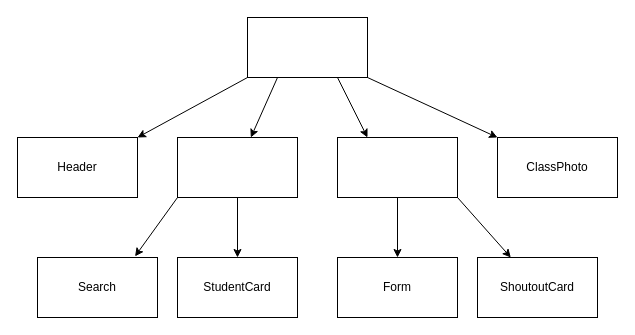
Some shapes in this 635 by 335 pixel diagram are drawn without their labels. The shapes that lost their labels are listed below. From the top down, each one's centre as x and y in pixels, then its label:
At point (307, 47): "App".
At point (237, 167): "StudentContainer".
At point (397, 167): "Shoutouts".
